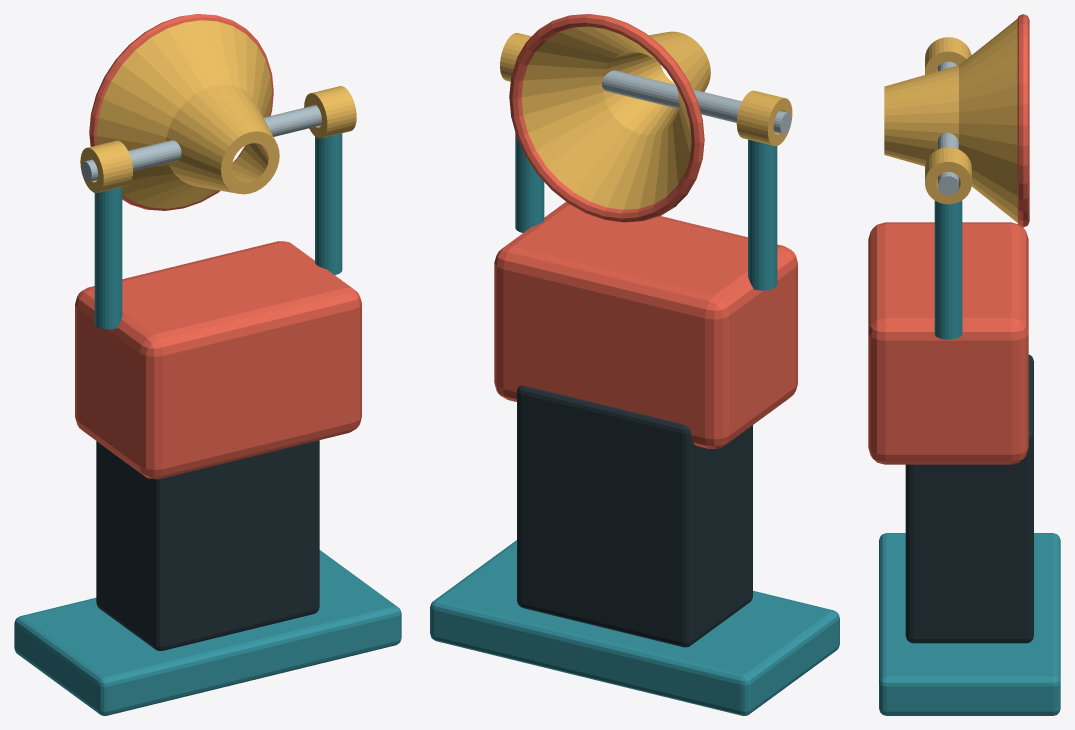
Rendered from loss_joint_action.glb.
3 views of the same model, side by side, from view 1: azimuth 30°, elevation 25°; view 2: azimuth 150°, elevation 25°; view 3: azimuth 270°, elevation 25° (orthographic). The views are drawn at different scales.
Parts seen in each view (by area): view 1: LOSS_MOTOR, LOSS_COLUMN, LOSS_FOOT, LOSS_BELL, LOSS_FORK, LOSS_FORK.001, LOSS_HEAD_AXLE, LOSS_LIP, LOSS_BEARING_LEFT, LOSS_BEARING_RIGHT; view 2: LOSS_MOTOR, LOSS_COLUMN, LOSS_FOOT, LOSS_BELL, LOSS_LIP, LOSS_FORK, LOSS_HEAD_AXLE, LOSS_BEARING_LEFT, LOSS_FORK.001, LOSS_BEARING_RIGHT; view 3: LOSS_MOTOR, LOSS_COLUMN, LOSS_FOOT, LOSS_BELL, LOSS_FORK.001, LOSS_LIP, LOSS_BEARING_RIGHT, LOSS_BEARING_LEFT, LOSS_HEAD_AXLE.
Part boxes in pixels (box(x1,y1,x2,y2)): LOSS_MOTOR: box(75, 241, 361, 479); LOSS_COLUMN: box(96, 440, 319, 650); LOSS_FOOT: box(14, 550, 401, 715); LOSS_BELL: box(96, 20, 279, 208); LOSS_FORK: box(94, 187, 122, 329); LOSS_FORK.001: box(315, 133, 342, 274); LOSS_HEAD_AXLE: box(81, 105, 321, 181); LOSS_LIP: box(89, 14, 273, 210); LOSS_BEARING_LEFT: box(80, 140, 132, 192); LOSS_BEARING_RIGHT: box(304, 86, 356, 138); LOSS_MOTOR: box(494, 202, 797, 448); LOSS_COLUMN: box(517, 385, 752, 647); LOSS_FOOT: box(430, 540, 839, 715); LOSS_BELL: box(521, 26, 710, 209); LOSS_LIP: box(509, 14, 704, 222); LOSS_FORK: box(748, 139, 777, 290); LOSS_HEAD_AXLE: box(602, 70, 791, 134); LOSS_BEARING_LEFT: box(736, 90, 792, 146); LOSS_FORK.001: box(515, 133, 544, 232); LOSS_BEARING_RIGHT: box(500, 33, 531, 81); LOSS_MOTOR: box(868, 222, 1028, 464); LOSS_COLUMN: box(905, 354, 1033, 643); LOSS_FOOT: box(879, 533, 1060, 715); LOSS_BELL: box(884, 19, 1017, 222); LOSS_FORK.001: box(934, 200, 962, 339); LOSS_LIP: box(1017, 14, 1029, 227); LOSS_BEARING_RIGHT: box(925, 147, 971, 204); LOSS_BEARING_LEFT: box(925, 37, 971, 74); LOSS_HEAD_AXLE: box(937, 61, 958, 195).
Bounding box in the file's own units: 1.65 × 3.2 × 0.9.
